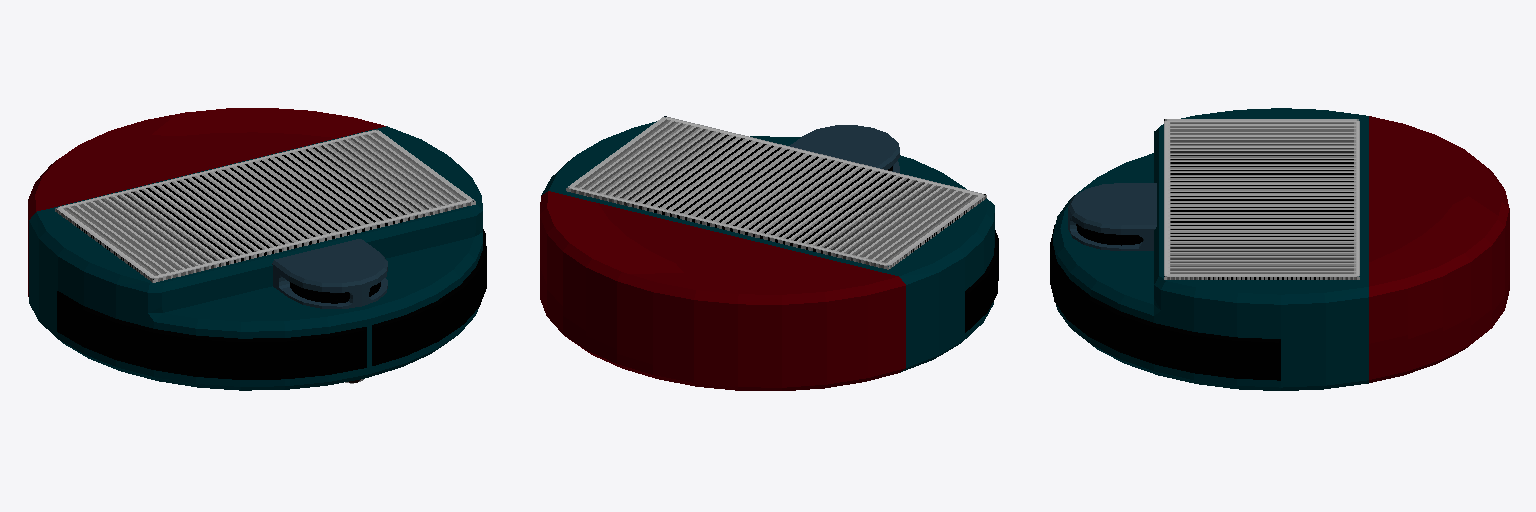
The picture shows the model from 3 angles: view 1: azimuth 30°, elevation 25°; view 2: azimuth 150°, elevation 25°; view 3: azimuth 270°, elevation 25°; orthographic projection.
Visible parts, largest first — view 1: grey; view 2: grey; view 3: grey.
Part boxes in pixels (x1,y1,x2,y2): grey: (28, 108, 486, 390); grey: (540, 116, 998, 390); grey: (1050, 108, 1509, 390).
Size of the model in its own units: 2.99 by 0.8284 by 2.97.
Materials: 10 (5 with a texture image).